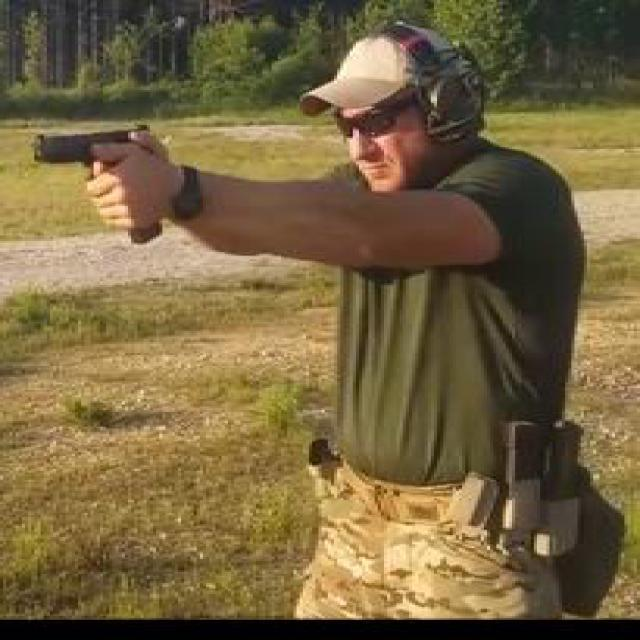Gun: (24, 118, 166, 238)
